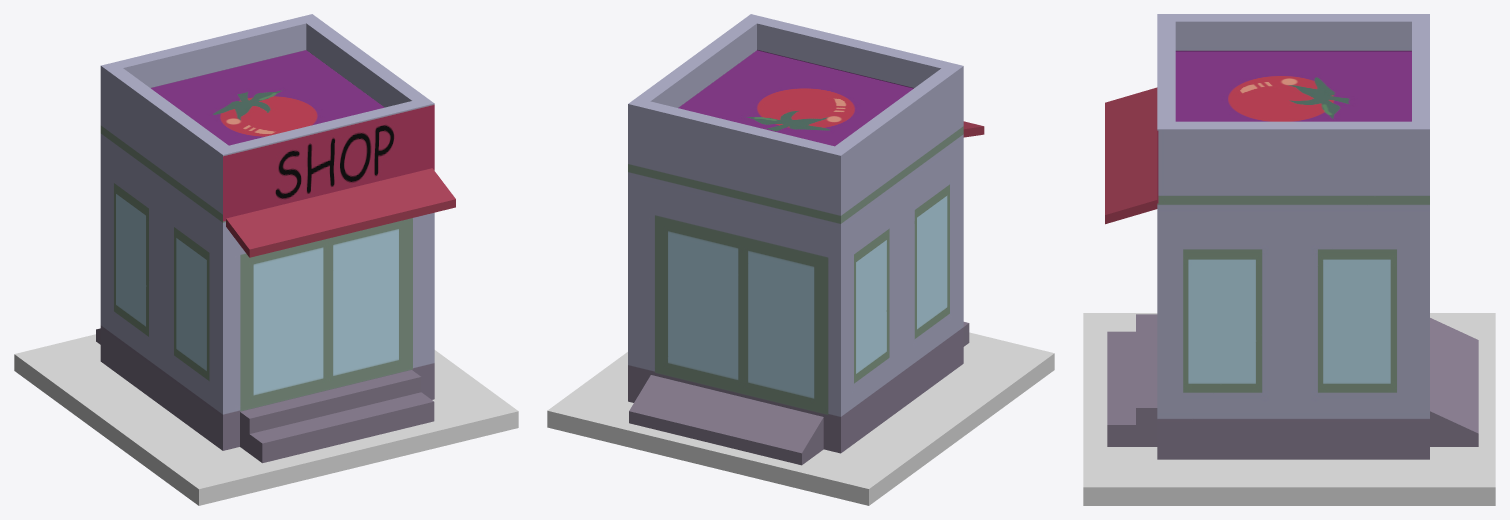
File: Shop03_1.FBX
The picture shows the model from 3 angles, left to right: view 1: azimuth 30°, elevation 25°; view 2: azimuth 150°, elevation 25°; view 3: azimuth 270°, elevation 25°; orthographic projection. The views are drawn at different scales.
Visible parts, largest first — view 1: Box004, Box001; view 2: Box004, Box001; view 3: Box004, Box001.
Part boxes in pixels (x1,y1,x2,y2): Box004: (96, 14, 455, 463); Box001: (14, 334, 518, 505); Box004: (628, 14, 984, 465); Box001: (547, 332, 1054, 505); Box004: (1105, 14, 1478, 459); Box001: (1083, 313, 1495, 505).
Size of the model in its own units: 1 by 0.9344 by 1.
Materials: 3 (3 with a texture image).
